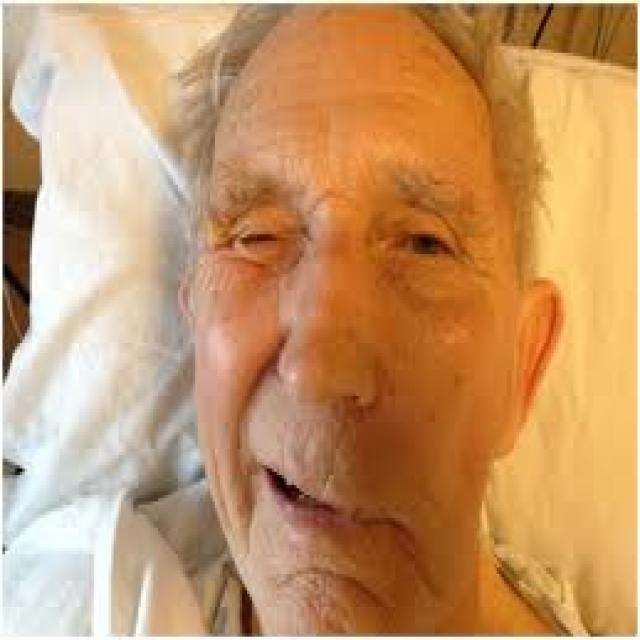stroke_face: (183, 46, 526, 640)
